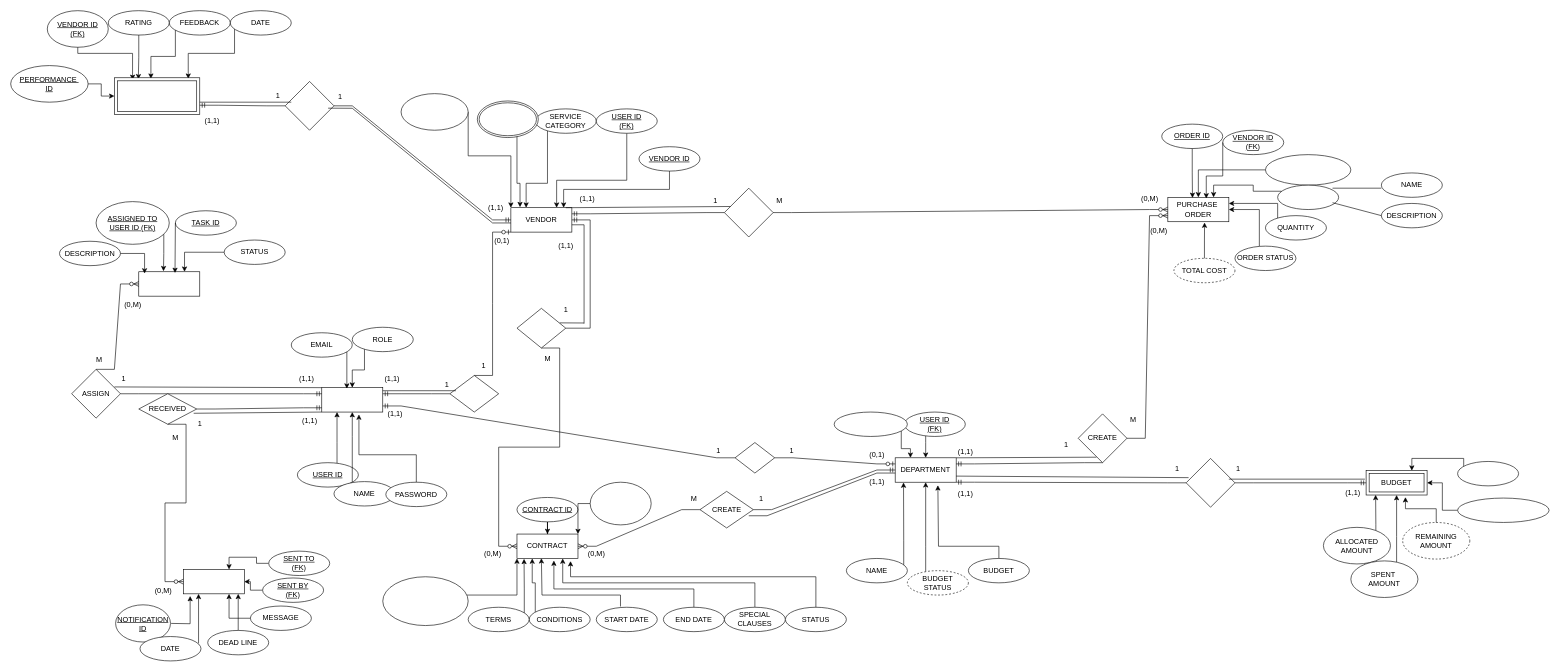
Some shapes in this 1560 by 672 pixel diagram are drawn without their labels. The shapes that lost their labels are listed below. From the top down, each one's box as (x1, y1, x2, y2) in pixels, then its label:
(114, 77, 200, 114): VENDOR PERFORMANCE
(285, 81, 334, 130): LINKED TO
(400, 93, 468, 130): PERFORMANCE RATINGS
(477, 100, 538, 138): COMPLIANCE CERTIFICATES
(1265, 154, 1351, 185): DEPARTMENT ID( FK )
(724, 188, 773, 237): FULFILL
(1277, 185, 1339, 210): ITEMS DETAIL
(138, 271, 200, 296): TASK
(516, 308, 566, 348): ASSIGNED
(321, 387, 383, 412): USER
(449, 375, 499, 412): ARE
(834, 411, 907, 436): DEPARTMENT ID
(734, 442, 775, 473): LINKED
(1457, 461, 1519, 486): BUDGET ID
(1186, 458, 1235, 507): HAS
(590, 482, 651, 525): ASSIGNED TO VENDOR ID(FK)
(1457, 497, 1549, 522): DEPARTMENT ID (FK)
(183, 569, 244, 594): NOTIFICATION
(382, 576, 468, 626): CREATED BY (FK) DEPARTMENT ID
